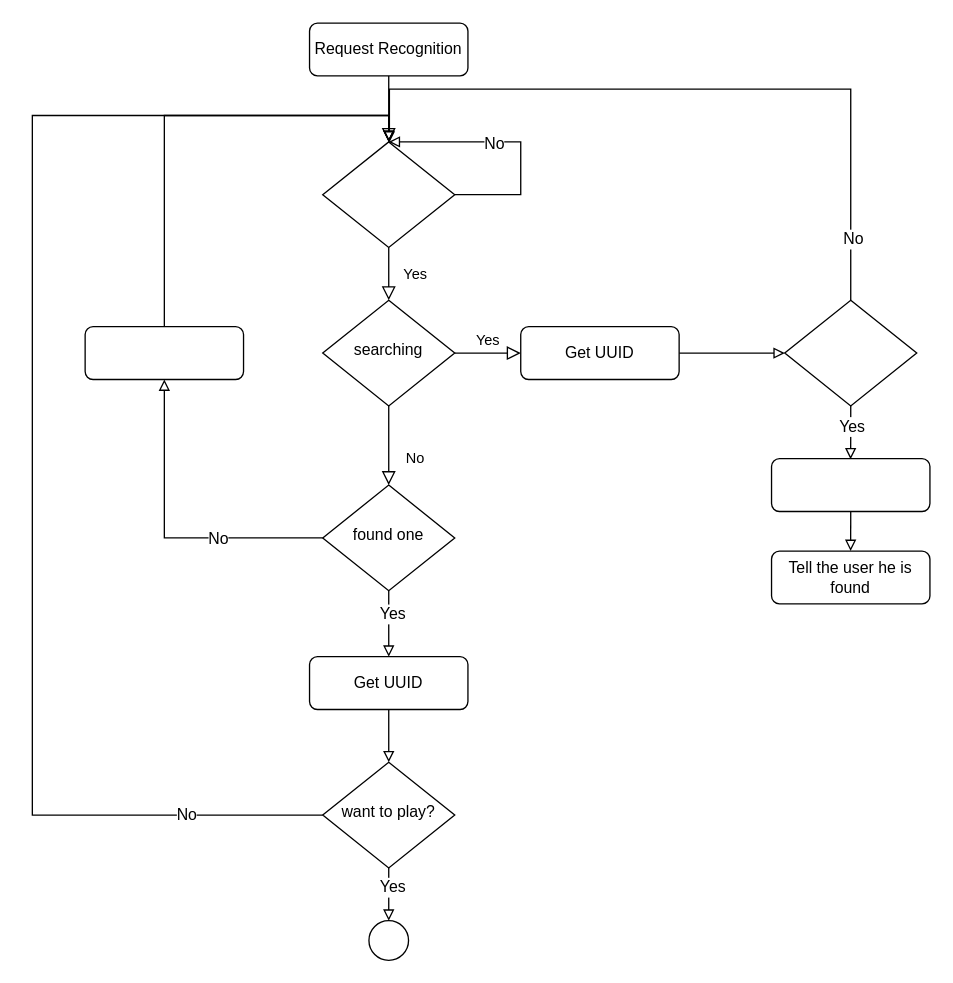
The diagram is 953 pixels wide and 983 high, and some of its shapes have lost their labels. Each missing label, with the box of its shape:
Recognition Result: (321, 141, 455, 248)
Show Happy Face: (770, 457, 930, 512)
Tell Users thy are to many: (84, 325, 244, 380)
UUID matches: (783, 299, 917, 406)
